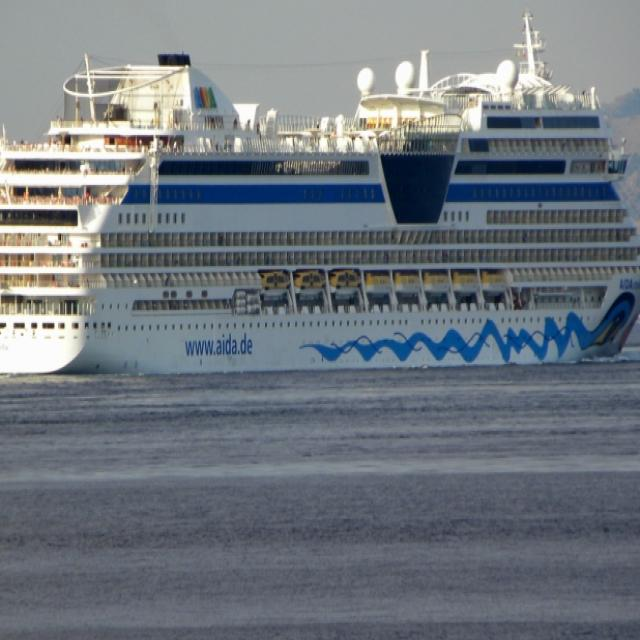cruises: (1, 10, 640, 384)
